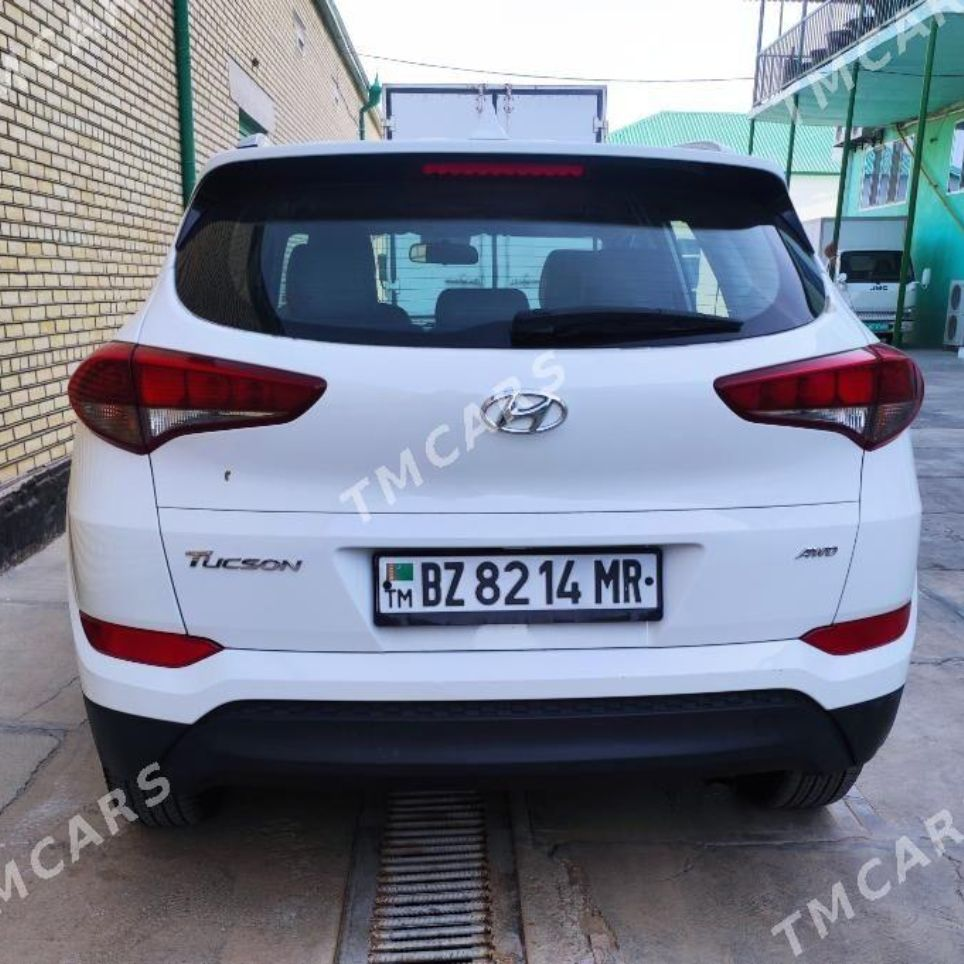license plate: (372, 556, 661, 614)
truck: (57, 133, 932, 816)
